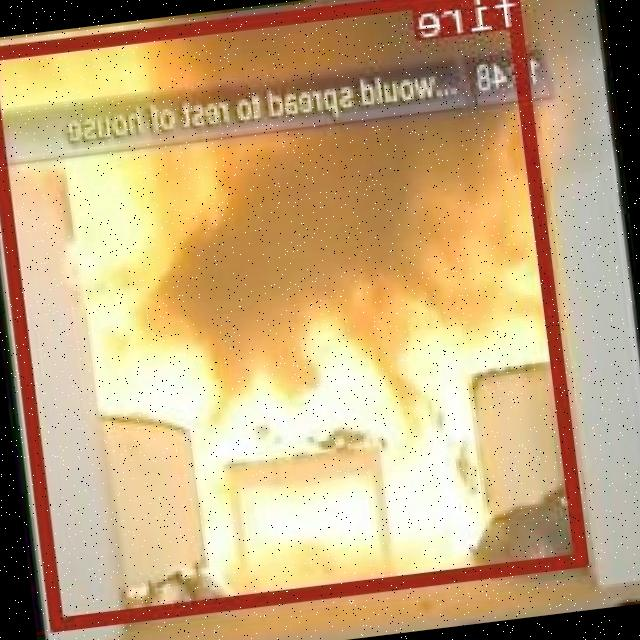fire: (0, 0, 591, 629)
